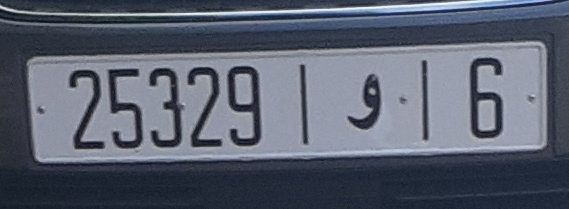2: (65, 66, 108, 153), (185, 61, 223, 154)
3: (145, 63, 185, 152)
5: (106, 62, 146, 156)
6: (462, 53, 508, 144)
9: (225, 60, 264, 149)
waw: (337, 65, 388, 137)
